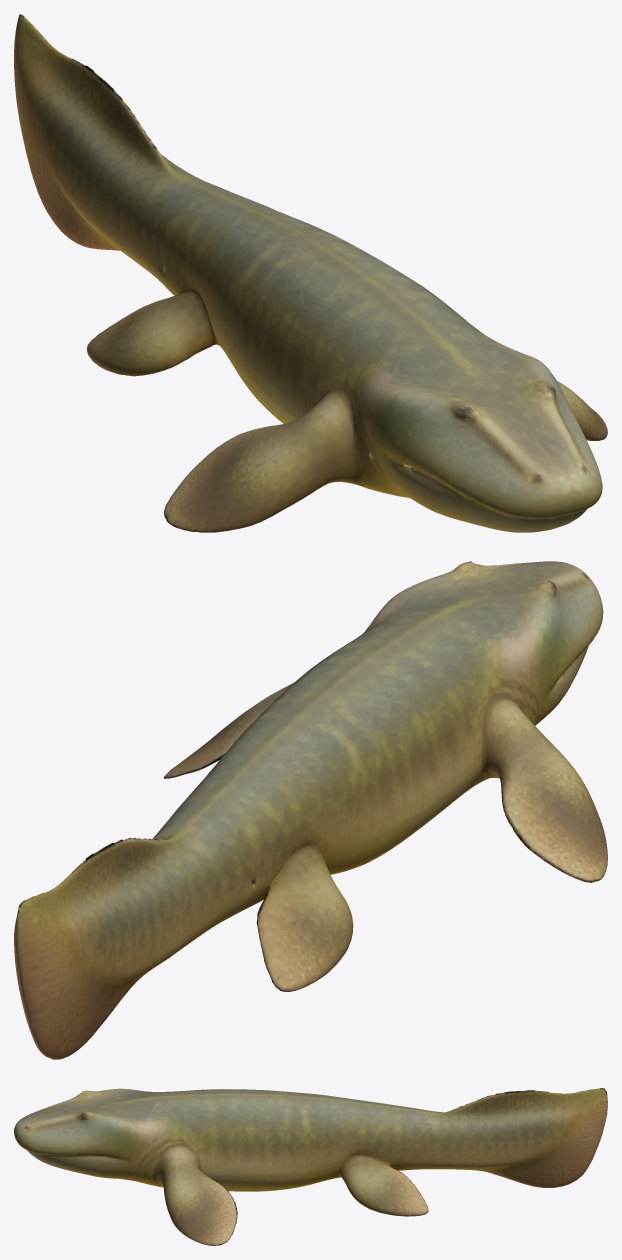
The picture shows the model from 3 angles, top to bottom: view 1: azimuth 30°, elevation 25°; view 2: azimuth 150°, elevation 25°; view 3: azimuth 270°, elevation 25°; orthographic projection. The views are drawn at different scales.
Parts seen in each view (by area): view 1: world; view 2: world; view 3: world.
Boxes of the visible parts, bbox=[...] form: world: bbox=[14, 14, 607, 532]; world: bbox=[14, 561, 607, 1059]; world: bbox=[14, 1088, 607, 1245].
Bounding box in the file's own units: 0.4914 × 0.2091 × 1.1.
1 material, 1 textured.
